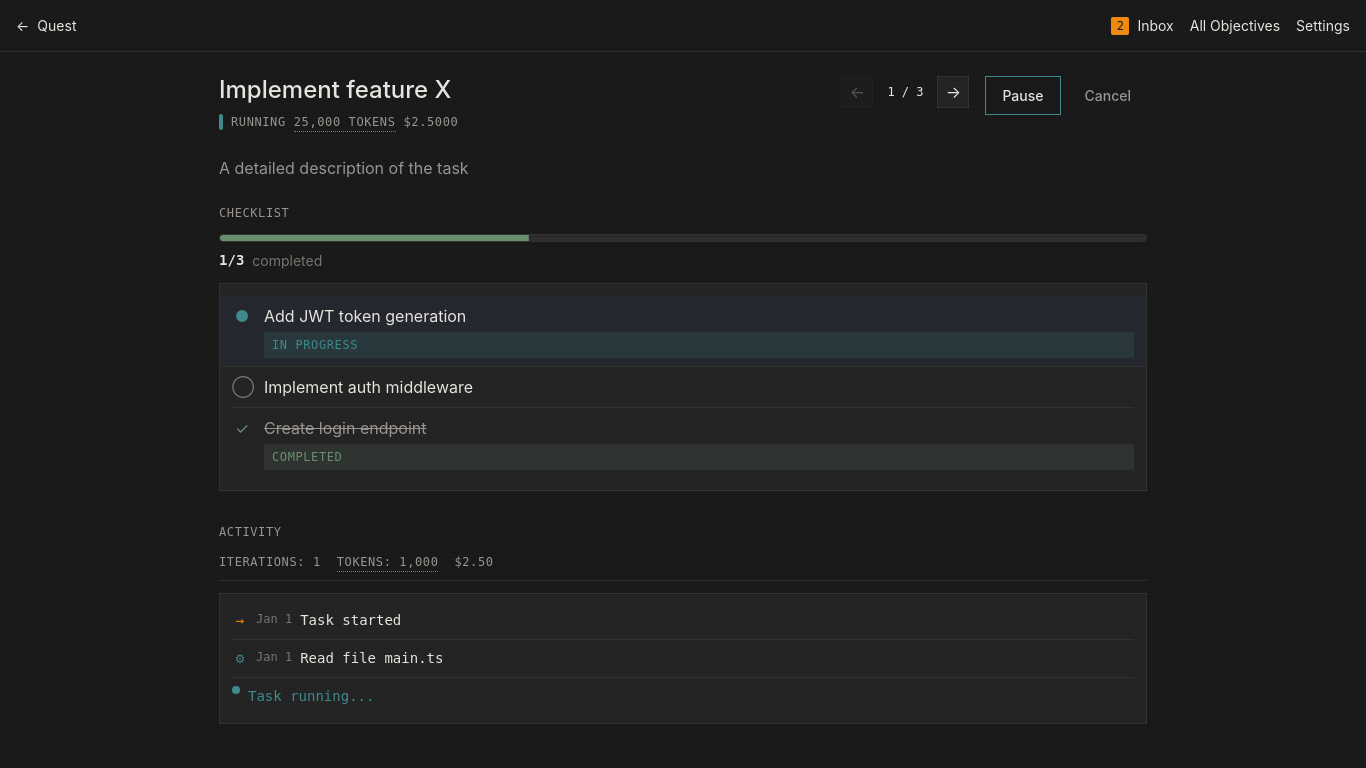
Scenario: ObjectiveDetail › task actions › cancel confirmation › closes modal when cancelled
Click the button "Cancel". click: coordinates (1108, 96)
box: [1068,76,1147,115]
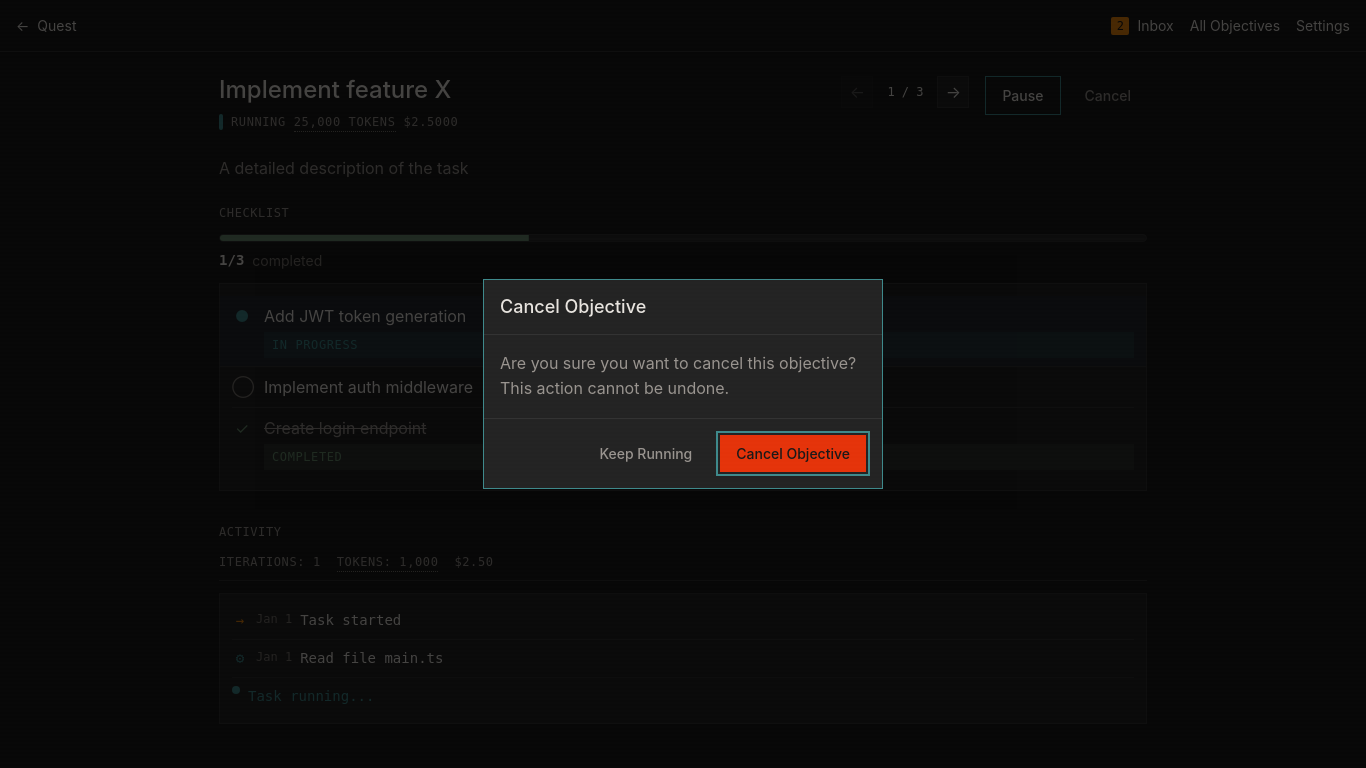
Check: the button "Keep Running" is shown
Click the button "Keep Running". click: coordinates (646, 453)
box: [583,435,708,472]
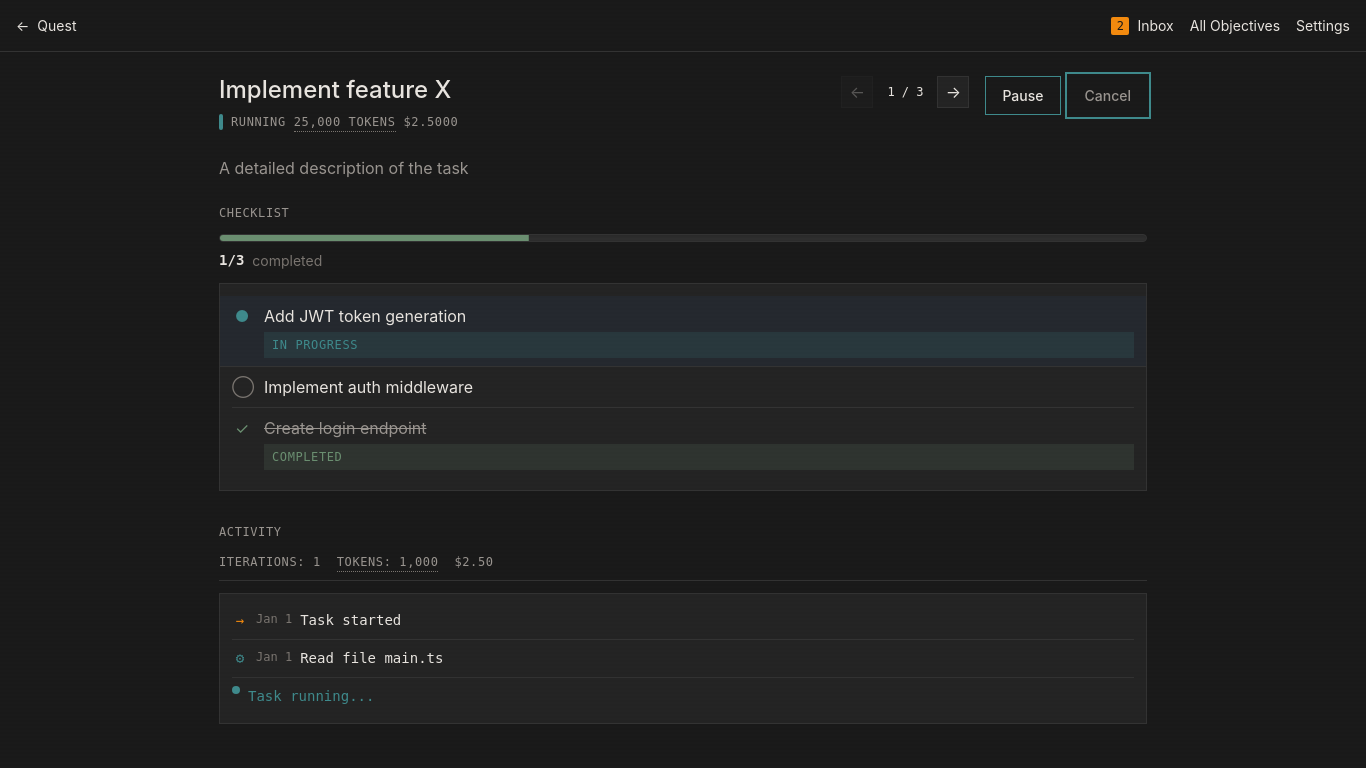
Check: the heading "Cancel Objective" is gone
